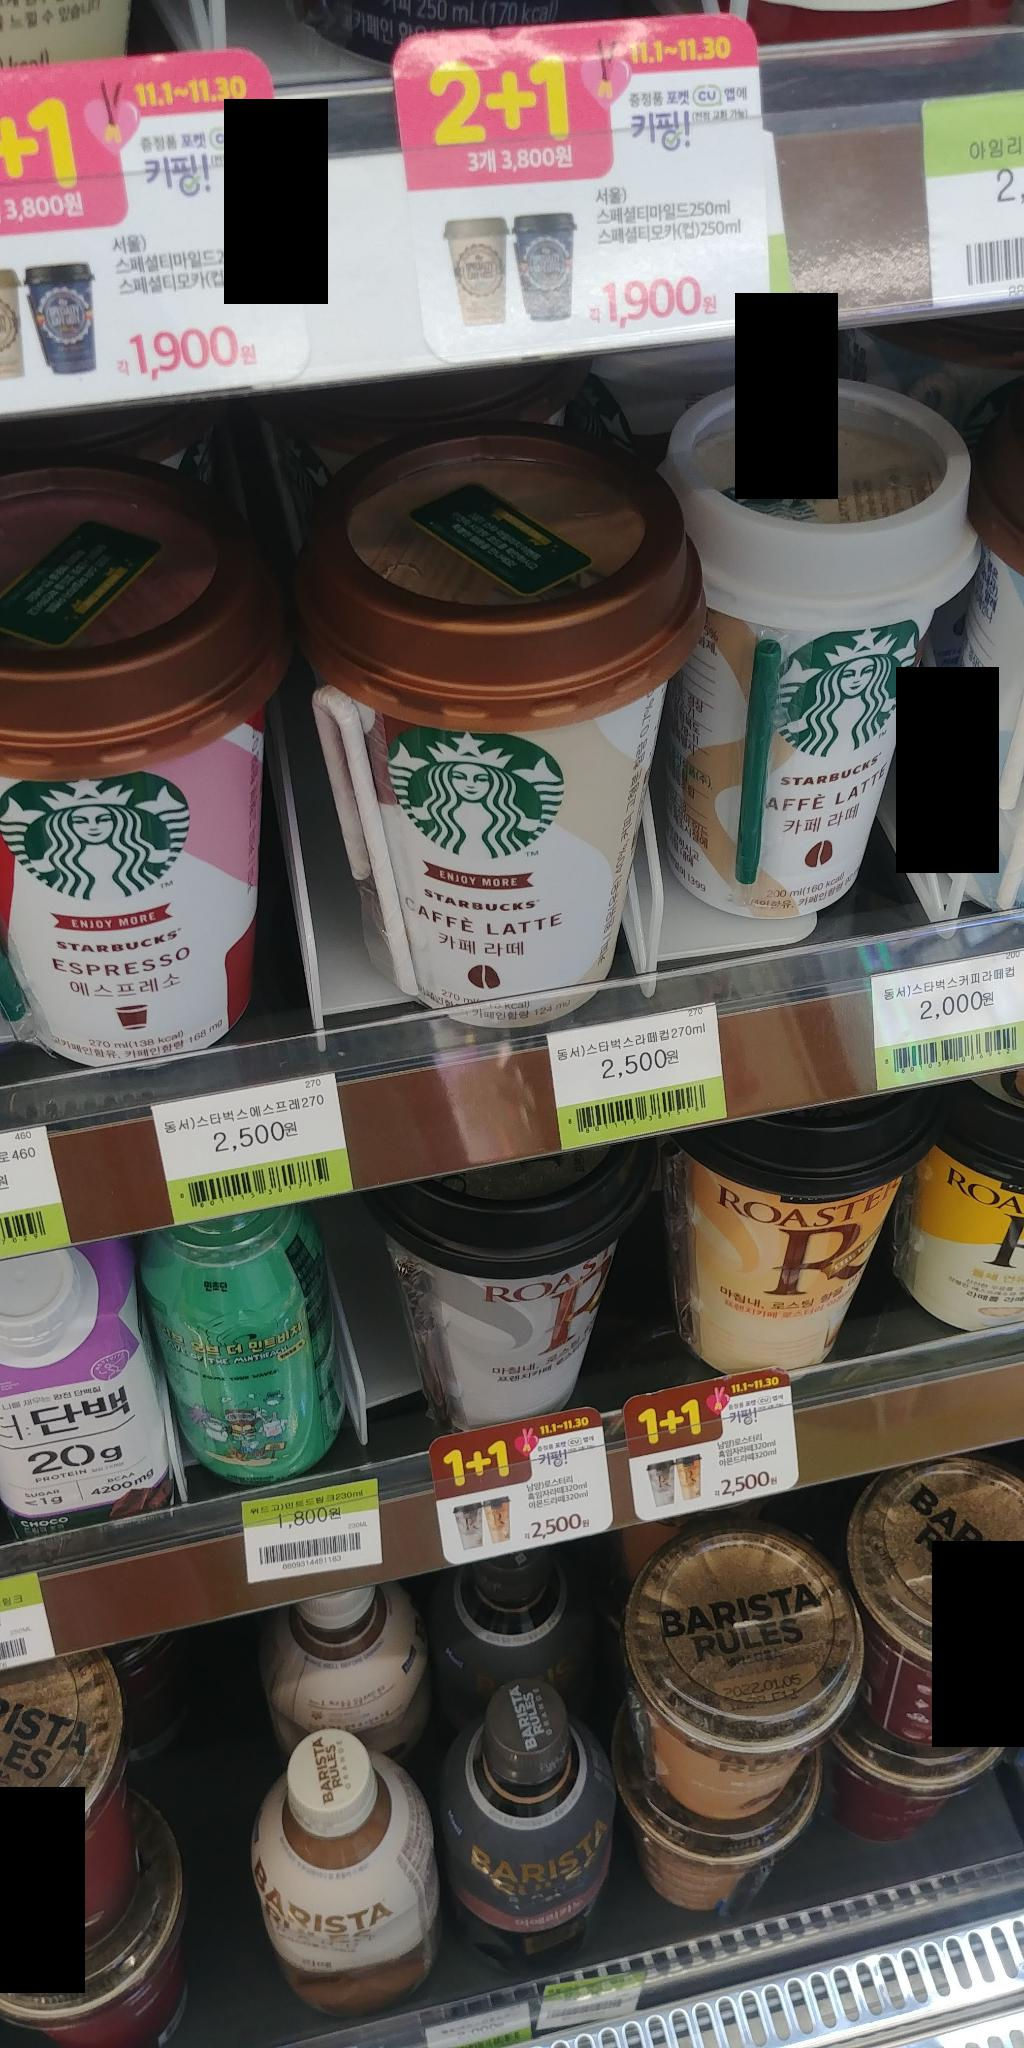starbucks_cafelatte: (277, 468, 684, 1064)
